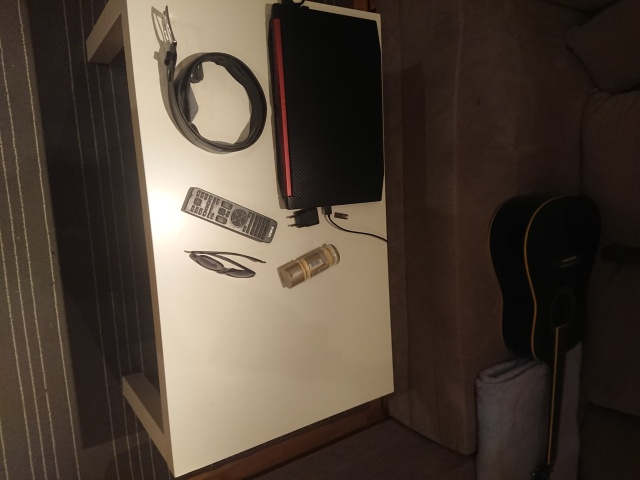Kotanyi Garlic Granules 70g: (278, 241, 342, 291)
